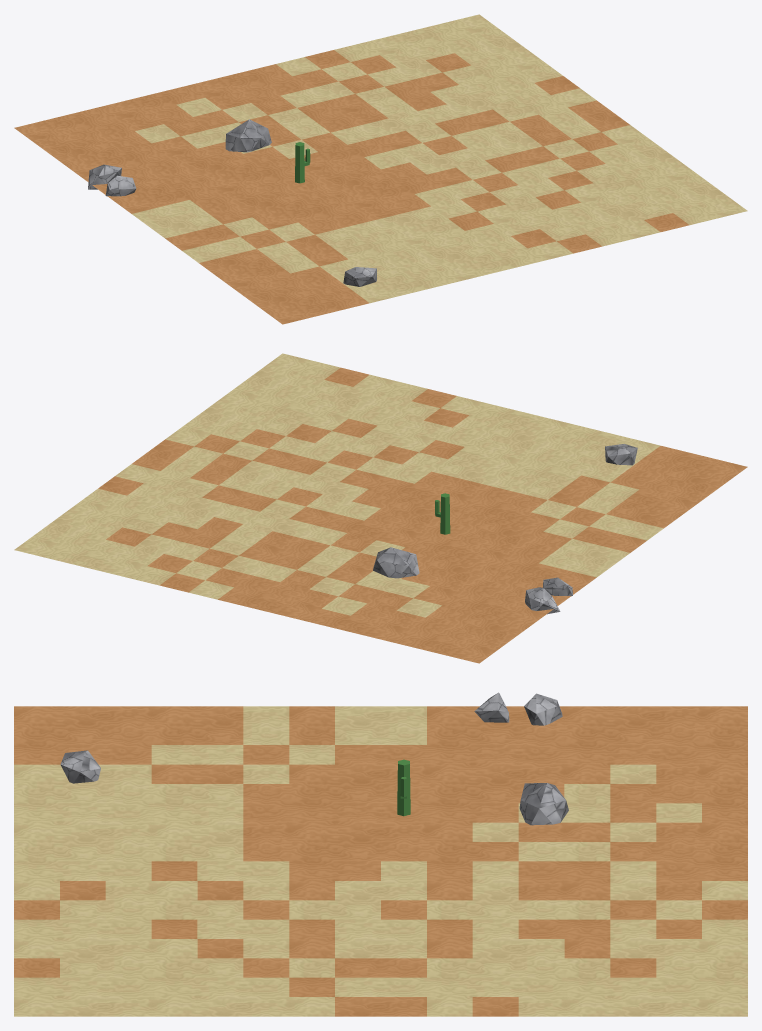
Rendered from chunk_10_22.glb.
The picture shows the model from 3 angles, top to bottom: view 1: azimuth 30°, elevation 25°; view 2: azimuth 150°, elevation 25°; view 3: azimuth 270°, elevation 25°; orthographic projection. The views are drawn at different scales.
Parts seen in each view (by area): view 1: chunk_10_22; view 2: chunk_10_22; view 3: chunk_10_22.
Part boxes in pixels (x1=…): chunk_10_22: x1=14, y1=14, x2=747, y2=324; chunk_10_22: x1=14, y1=353, x2=747, y2=663; chunk_10_22: x1=14, y1=692, x2=747, y2=1016.
Size of the model in its own units: 16.13 by 1.66 by 16.
Materials: 4 (3 with a texture image).
